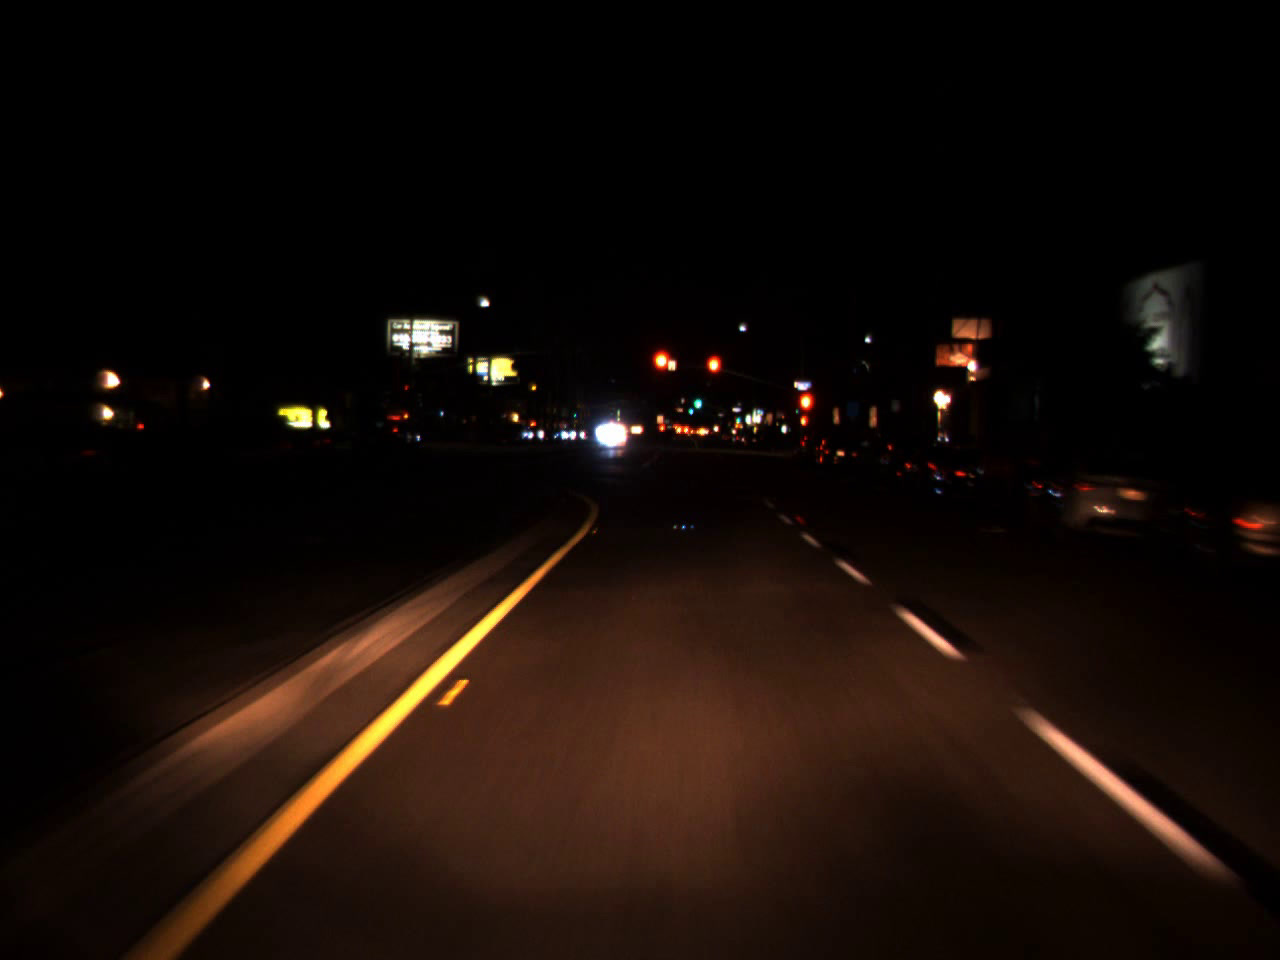go: (690, 388, 702, 412), (687, 404, 694, 416), (734, 412, 741, 424)
stop: (650, 347, 674, 392), (796, 390, 815, 433), (705, 353, 723, 393)
